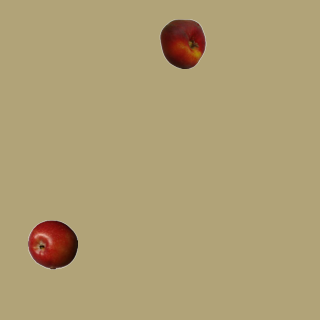Apple Braeburn: (27, 219, 77, 269)
Nectarine Flat: (157, 18, 207, 68)
